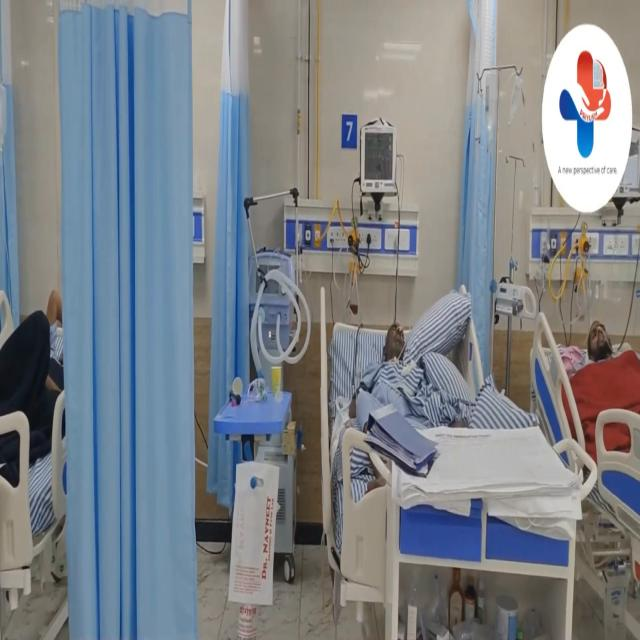Patient: (355, 280, 442, 419), (0, 264, 67, 444), (571, 299, 640, 451)
